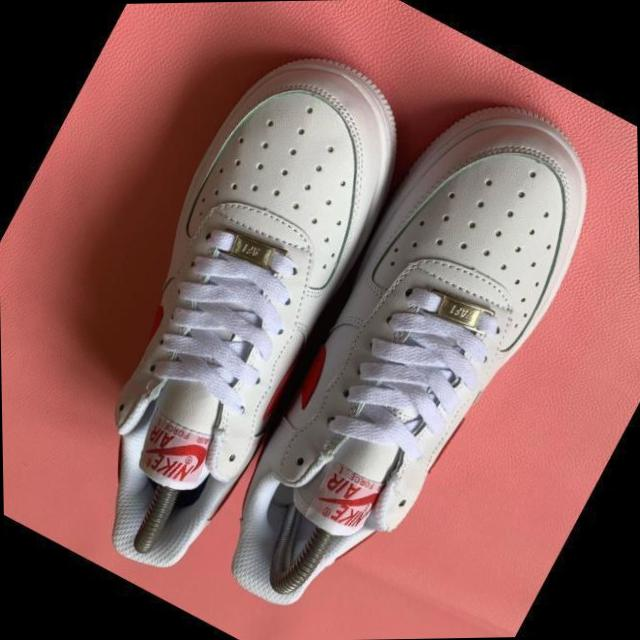nike_fake_airforce: (165, 69, 632, 640), (0, 8, 450, 599)
